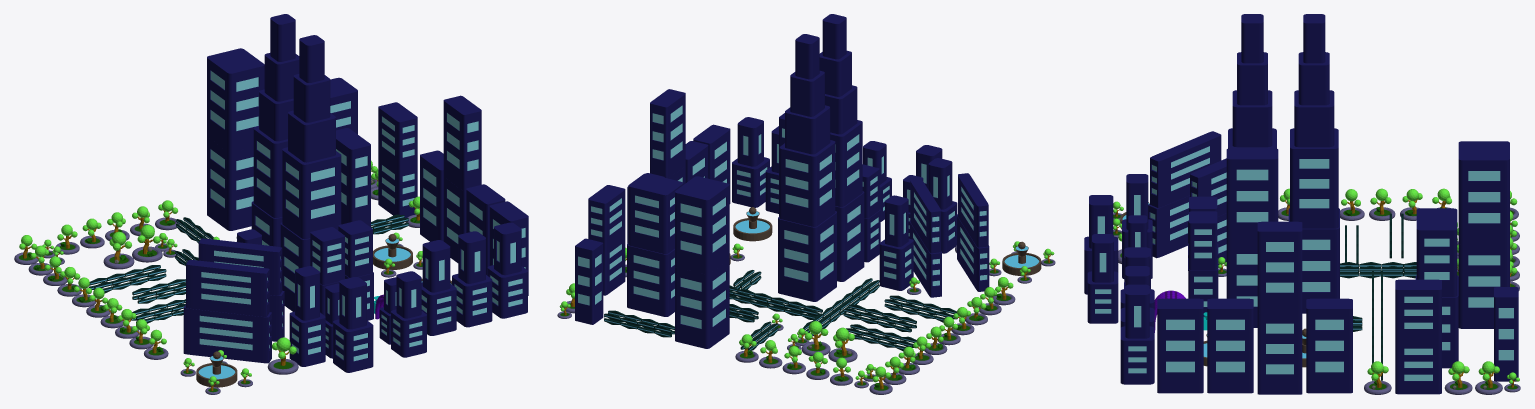
Rendered from map1.0.fbx.
3 views of the same model, side by side, from view 1: azimuth 30°, elevation 25°; view 2: azimuth 150°, elevation 25°; view 3: azimuth 270°, elevation 25° (orthographic). The views are drawn at different scales.
Visible parts, largest first — view 1: Cube.001; view 2: Cube.001; view 3: Cube.001.
Boxes of the visible parts, x1,y1,x2,y2 form: Cube.001: [14, 14, 528, 394]; Cube.001: [557, 14, 1055, 394]; Cube.001: [1084, 14, 1520, 394].
Size of the model in its own units: 9928 by 7149 by 9893.
